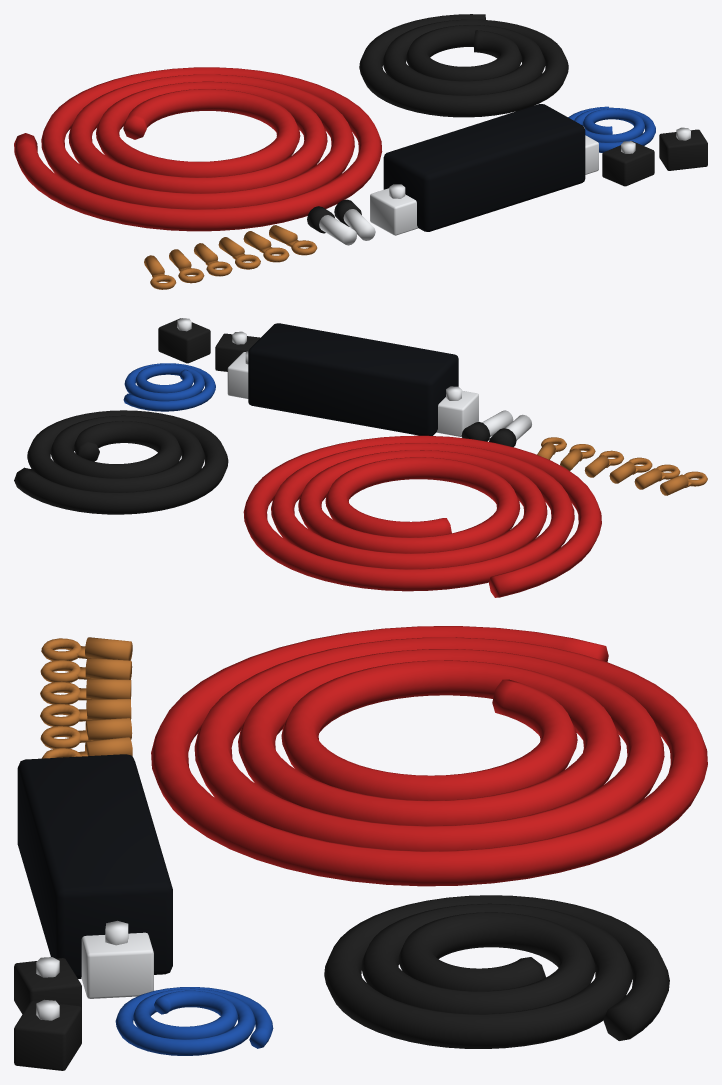
The model's file is install-kit.glb.
The picture shows the model from 3 angles, top to bottom: view 1: azimuth 30°, elevation 25°; view 2: azimuth 150°, elevation 25°; view 3: azimuth 270°, elevation 25°; orthographic projection. The views are drawn at different scales.
Parts seen in each view (by area): view 1: install-kit; view 2: install-kit; view 3: install-kit.
Part boxes in pixels (box(x1,y1,x2,y2)): install-kit: box(14, 14, 707, 289); install-kit: box(14, 318, 707, 597); install-kit: box(14, 626, 707, 1070).
Size of the model in its own units: 0.2978 by 0.03 by 0.2051.
